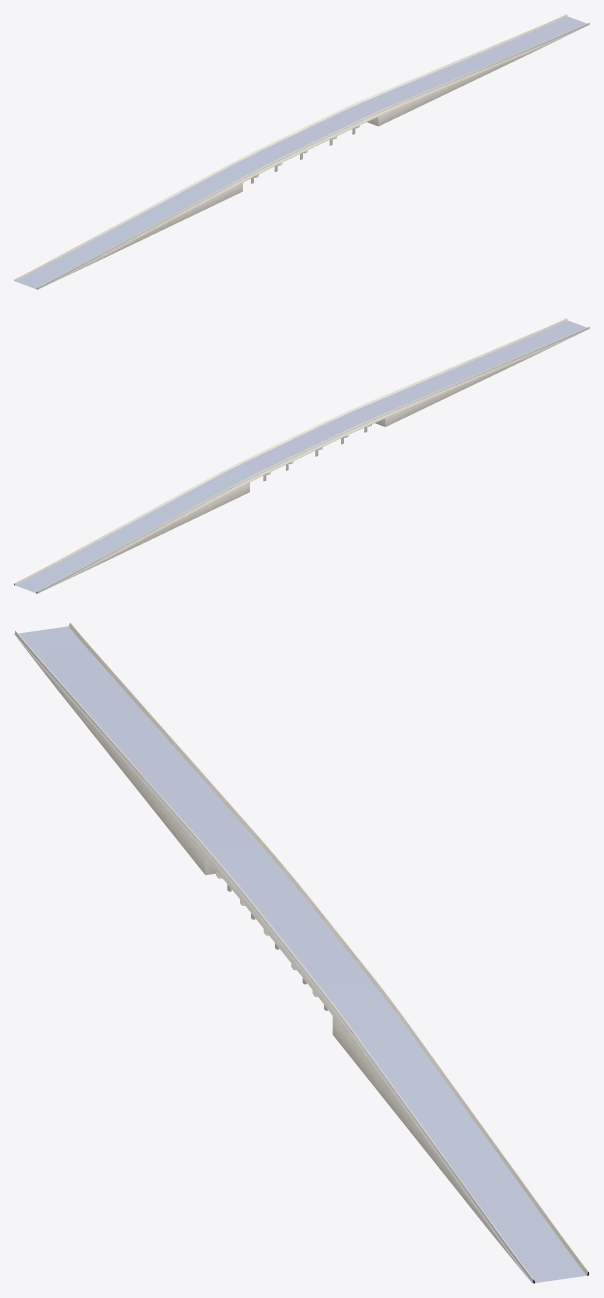
The model's file is Saina-Zhubanov2-bridge-edit.glb.
3 views of the same model, one above another, from view 1: azimuth 30°, elevation 25°; view 2: azimuth 210°, elevation 25°; view 3: azimuth 270°, elevation 25° (orthographic). The views are drawn at different scales.
Parts seen in each view (by area): view 1: group_3, group_11.001; view 2: group_3, group_11.001; view 3: group_3, group_11.001.
Boxes of the visible parts, x1=… form: group_3: x1=15, y1=16, x2=589, y2=289; group_11.001: x1=14, y1=14, x2=589, y2=289; group_3: x1=15, y1=320, x2=589, y2=593; group_11.001: x1=14, y1=318, x2=589, y2=593; group_3: x1=14, y1=626, x2=589, y2=1283; group_11.001: x1=15, y1=622, x2=588, y2=1283.
Bounding box in the file's own units: 396 × 8 × 147.
Materials: 2 (1 with a texture image).
